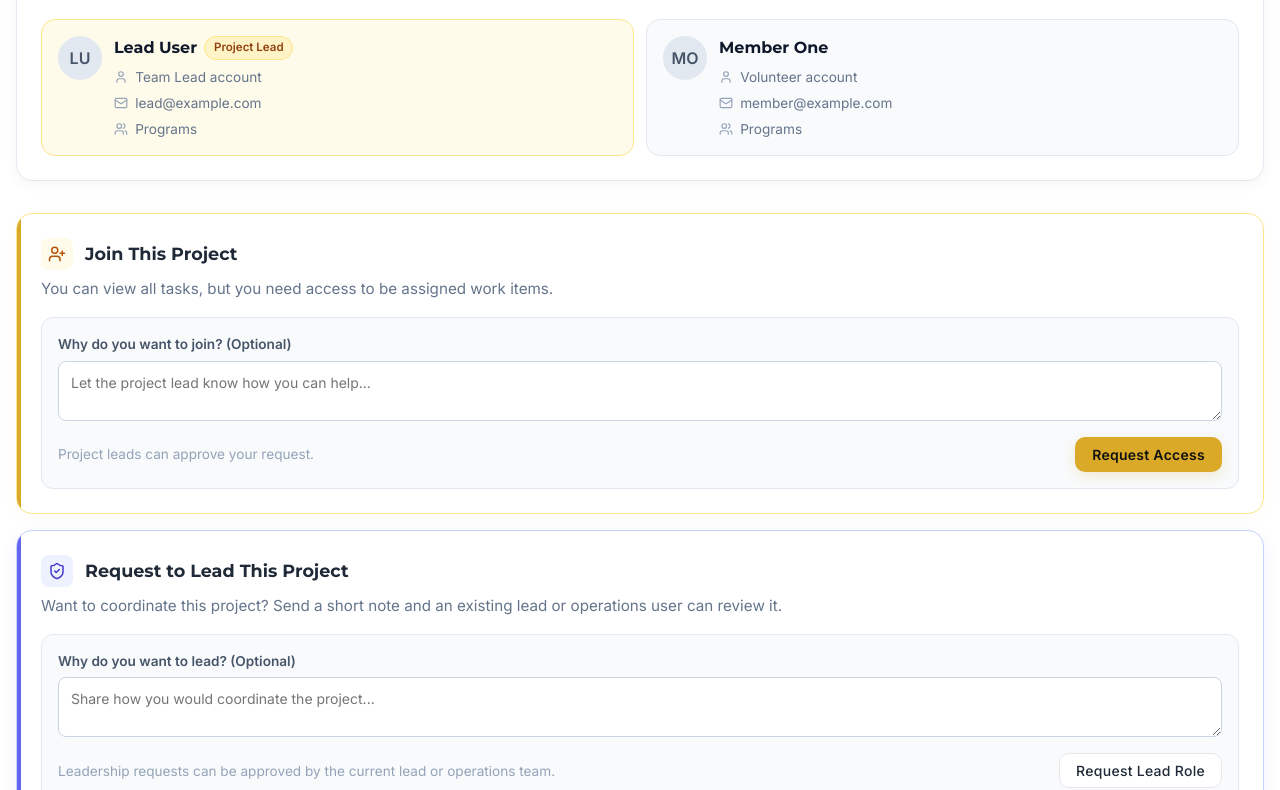
Test: ProjectDetailPage flows › lets a view-only user request project access and see the pending state
(page scrolled)
Check: the heading "Join This Project" is shown, box [85,241,237,267]
Check: the text "You can view all tasks, but you need access to be assigned work items." is shown, box [41,279,553,298]
Step 1. Type "I can help with volunteer follow-up." into the text box labelled "Why do you want to join? (Optional)" → (640, 391), box [58,361,1222,421]
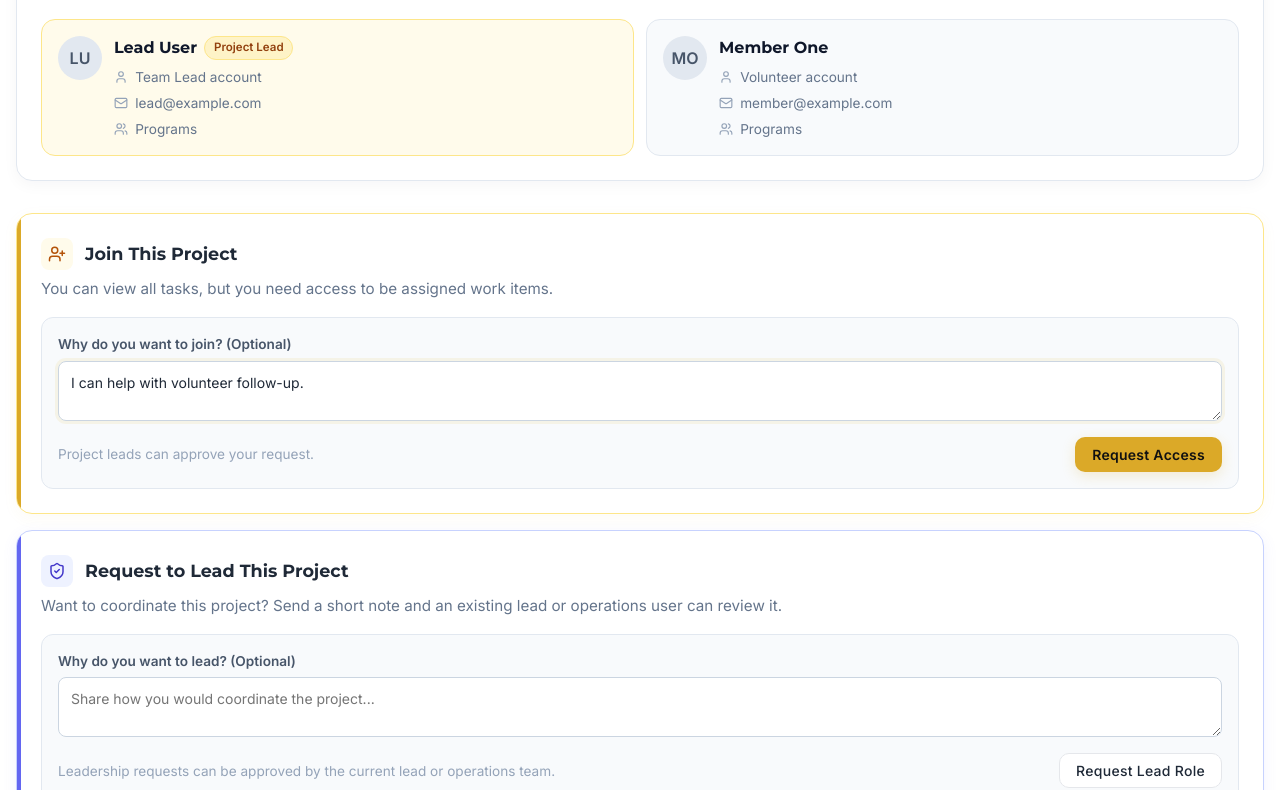
Step 2. Click the button "Request Access" → (1149, 454), box [1075,437,1222,472]
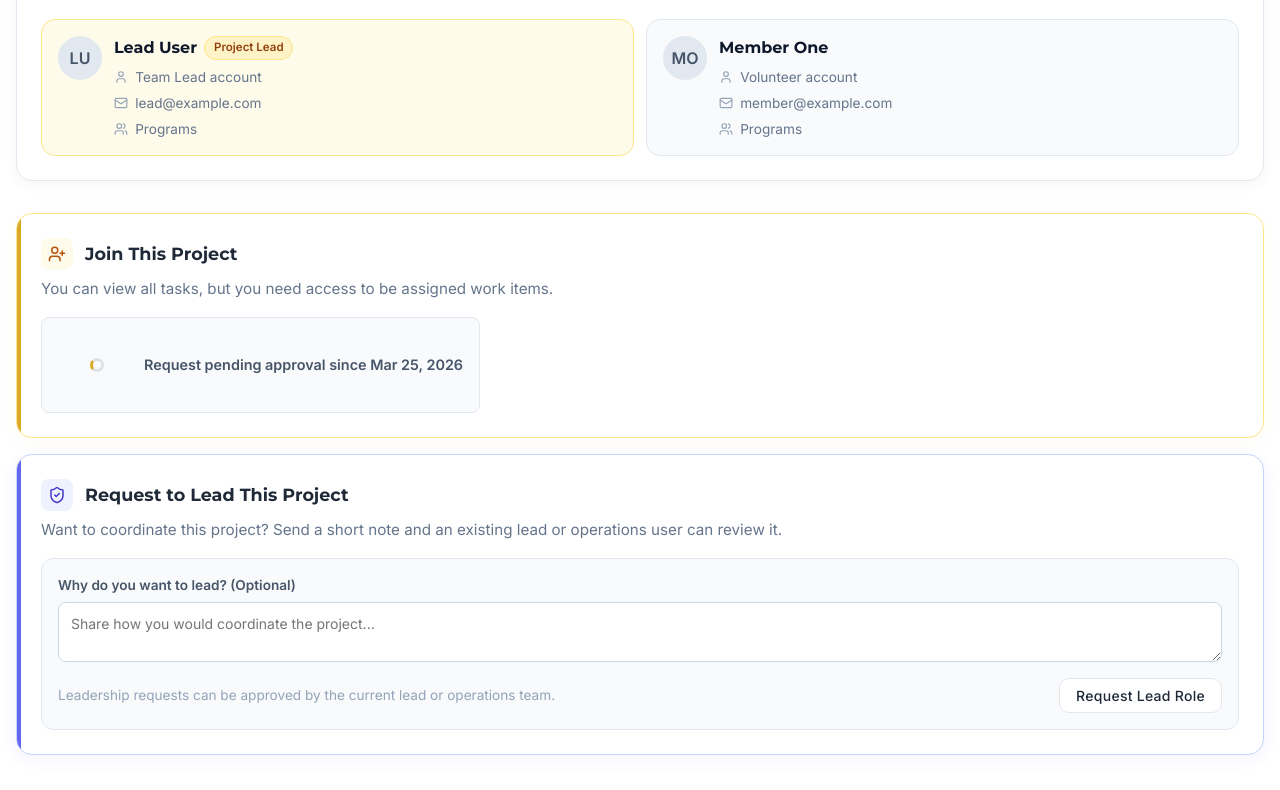
Check: the text "Request pending approval since Mar 25, 2026" is shown, box [41,317,480,413]
